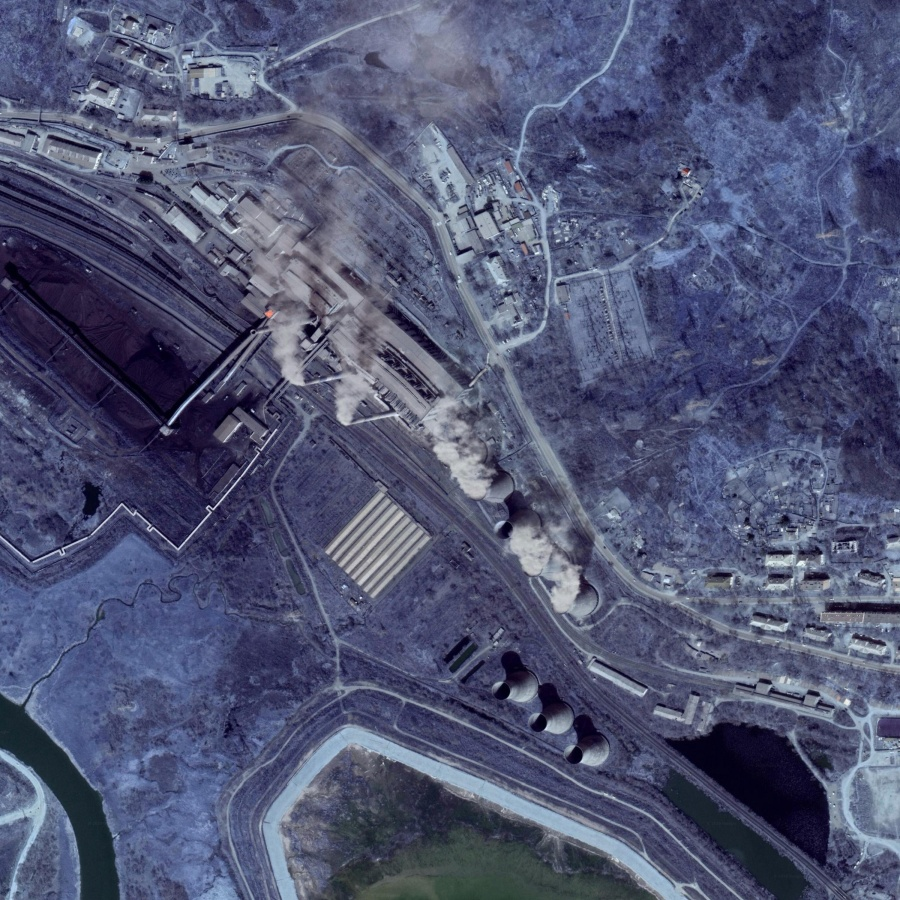PowerPlant: (430, 406, 644, 779)
